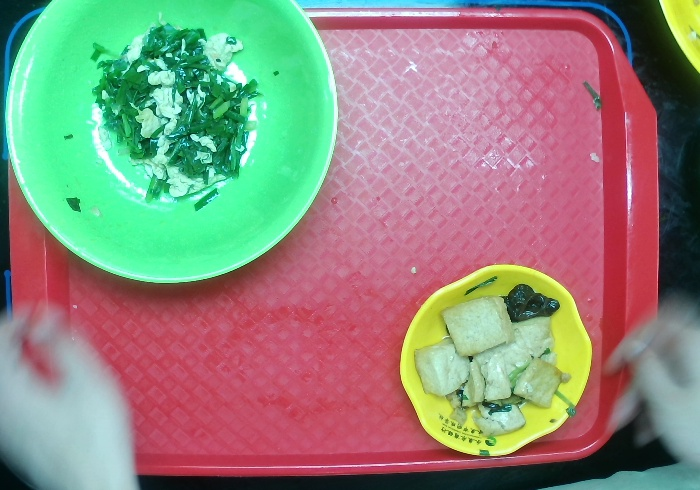YKMZ-Huang_Se_Ao_Bian_Wan: (397, 262, 594, 460)
YKMZ-Lv_Se_Tang_Wan: (1, 1, 340, 287)
